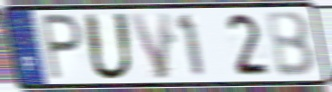1: (174, 12, 210, 79)
2: (225, 11, 273, 78)
B: (263, 9, 319, 79)
P: (39, 12, 85, 84)
U: (81, 11, 137, 83)
V: (127, 10, 173, 82)
